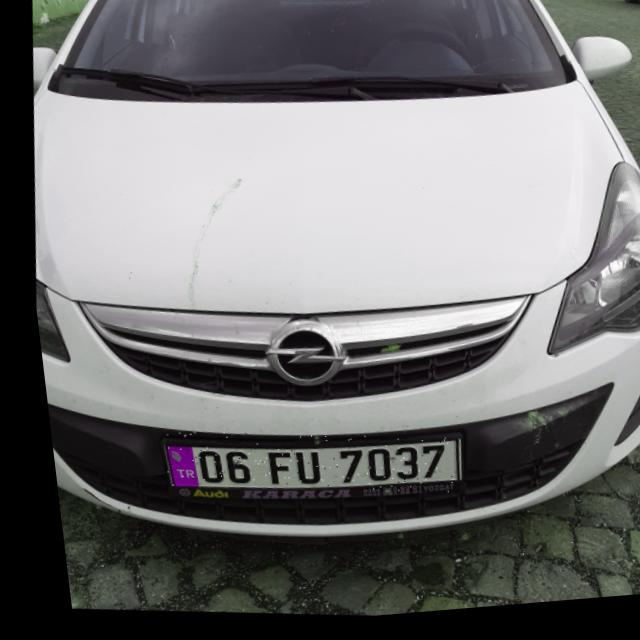license_plate: (149, 414, 452, 517)
